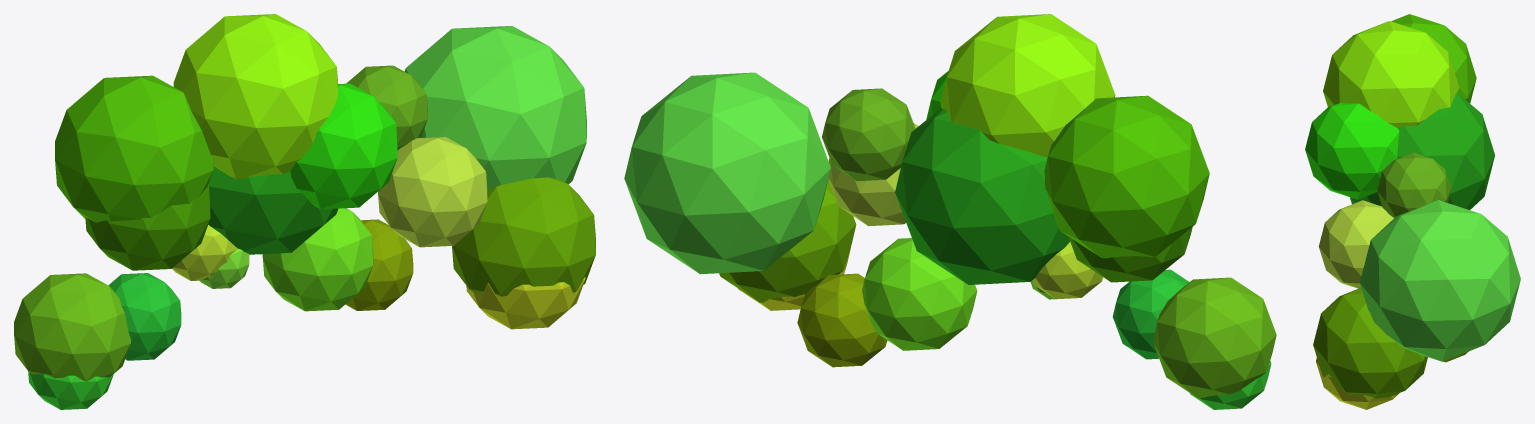
Rendered from bush.glb.
3 views of the same model, side by side, from view 1: azimuth 30°, elevation 25°; view 2: azimuth 150°, elevation 25°; view 3: azimuth 270°, elevation 25° (orthographic). The views are drawn at different scales.
Parts seen in each view (by area): view 1: Icosphere.006; view 2: Icosphere.006; view 3: Icosphere.006.
Part boxes in pixels (<box>): Icosphere.006: <box>14,14,595,409</box>; Icosphere.006: <box>624,14,1276,409</box>; Icosphere.006: <box>1305,14,1520,409</box>.
Size of the model in its own units: 4.02 by 2.34 by 1.63.
